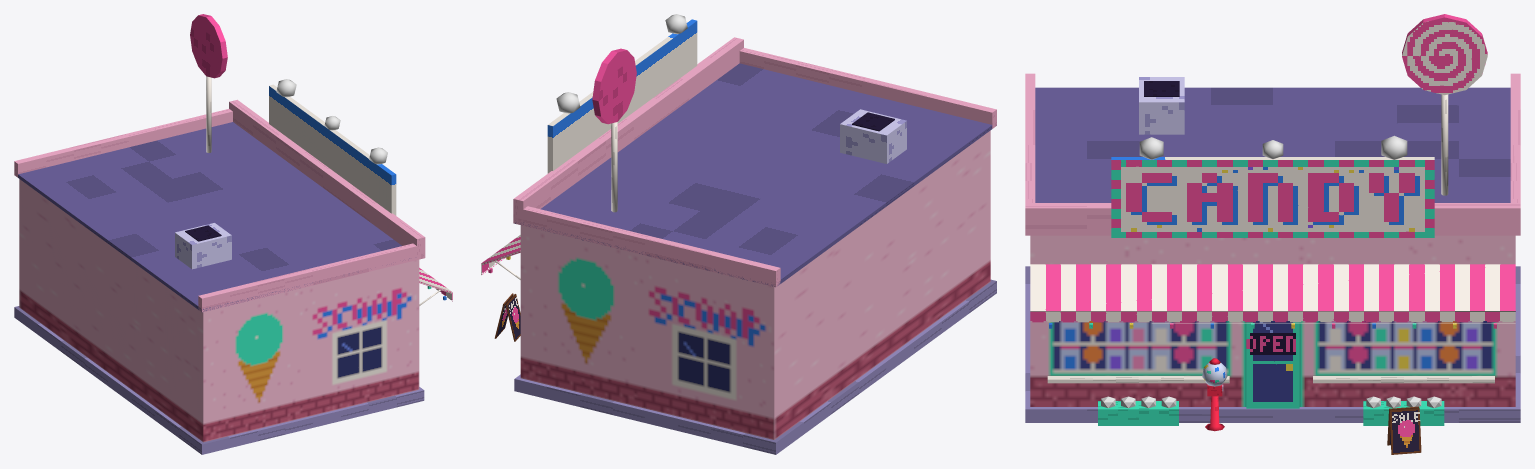
The model's file is Candy Shop.fbx.
The picture shows the model from 3 angles, left to right: view 1: azimuth 30°, elevation 25°; view 2: azimuth 150°, elevation 25°; view 3: azimuth 270°, elevation 25°; orthographic projection. The views are drawn at different scales.
Parts seen in each view (by area): view 1: Candy Shop walls, Candy Shop roof, Candy Shop foundation, Candy Shop sign, Candy Shop parapet front, Candy Shop parapet side 1, Candy Shop parapet side -1, Candy Shop lollipop candy, Candy Shop ac unit, Candy Shop lollipop stick; view 2: Candy Shop walls, Candy Shop roof, Candy Shop foundation, Candy Shop parapet front, Candy Shop sign, Candy Shop parapet side -1, Candy Shop parapet side 1, Candy Shop lollipop candy, Candy Shop ac unit, Candy Shop lollipop stick; view 3: Candy Shop walls, Candy Shop roof, Candy Shop sign, Candy Shop awning, Candy Shop foundation, Candy Shop valance, Candy Shop parapet front, Candy Shop lollipop candy, Candy Shop door.001, Candy Shop ac unit, Candy Shop planter 0, Candy Shop sill 1 (+8 smaller).
Part boxes in pixels (left/top/right/bottom): Candy Shop walls: left=19, top=179, right=419, bottom=442; Candy Shop roof: left=18, top=122, right=409, bottom=312; Candy Shop foundation: left=14, top=306, right=424, bottom=454; Candy Shop sign: left=269, top=84, right=396, bottom=215; Candy Shop parapet front: left=229, top=99, right=425, bottom=259; Candy Shop parapet side 1: left=198, top=243, right=423, bottom=312; Candy Shop parapet side -1: left=14, top=109, right=232, bottom=177; Candy Shop lollipop candy: left=190, top=14, right=227, bottom=78; Candy Shop ac unit: left=175, top=223, right=231, bottom=269; Candy Shop lollipop stick: left=206, top=76, right=211, bottom=152; Candy Shop walls: left=520, top=130, right=990, bottom=439; Candy Shop roof: left=514, top=63, right=996, bottom=286; Candy Shop foundation: left=514, top=279, right=996, bottom=454; Candy Shop parapet front: left=513, top=37, right=743, bottom=225; Candy Shop sign: left=547, top=19, right=697, bottom=173; Candy Shop parapet side -1: left=514, top=206, right=780, bottom=287; Candy Shop parapet side 1: left=739, top=48, right=996, bottom=128; Candy Shop lollipop candy: left=592, top=48, right=636, bottom=124; Candy Shop ac unit: left=840, top=109, right=906, bottom=163; Candy Shop lollipop stick: left=611, top=122, right=617, bottom=212; Candy Shop walls: left=1030, top=235, right=1515, bottom=406; Candy Shop roof: left=1035, top=87, right=1510, bottom=202; Candy Shop sign: left=1111, top=157, right=1434, bottom=237; Candy Shop awning: left=1030, top=264, right=1515, bottom=311; Candy Shop foundation: left=1025, top=266, right=1520, bottom=422; Candy Shop valance: left=1030, top=311, right=1515, bottom=323; Candy Shop parapet front: left=1025, top=203, right=1520, bottom=235; Candy Shop lollipop candy: left=1402, top=14, right=1487, bottom=95; Candy Shop door.001: left=1246, top=321, right=1299, bottom=408; Candy Shop ac unit: left=1139, top=77, right=1184, bottom=134; Candy Shop planter 0: left=1098, top=401, right=1178, bottom=425; Candy Shop sill 1: left=1313, top=376, right=1494, bottom=383.
Size of the model in its own units: 8.44 by 8.1 by 9.8.
28 materials, 22 textured.
